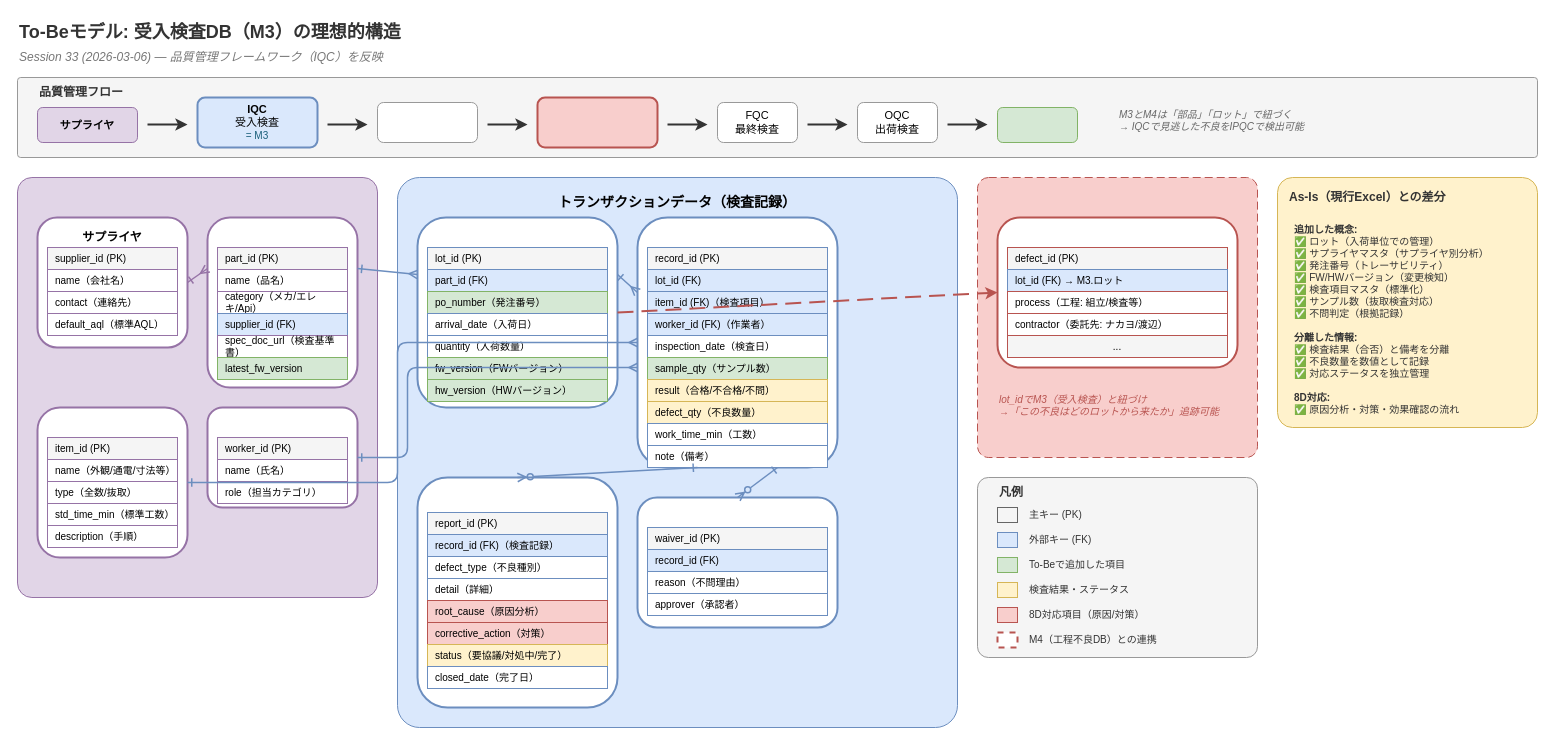
The diagram is 1555 pixels wide and 745 high, and some of its shapes have lost their labels. The box of each missing label's shape, as (x1, y1, x2, y2) in pixels:
IPQC 工程内検査 = M4: (536, 96, 658, 148)
M4連携（工程不良DB）: (976, 176, 1258, 458)
マスタデータ: (16, 176, 378, 598)
ロット（入荷単位）: (416, 216, 618, 408)
不問判定: (636, 496, 838, 628)
不良レポート （8D対応）: (416, 476, 618, 708)
作業者: (206, 406, 358, 508)
工程不良記録 （M4）: (996, 216, 1238, 368)
検査記録: (636, 216, 838, 468)
検査項目: (36, 406, 188, 558)
製造工程 （自社/委託先）: (376, 102, 478, 142)
部品: (206, 216, 358, 388)
顧客: (996, 106, 1078, 142)
